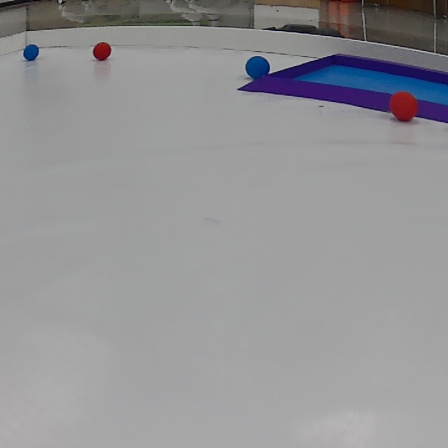blue: (244, 53, 271, 80), (22, 42, 42, 62)
blue_aim: (234, 51, 448, 141)
red: (384, 86, 421, 126), (90, 41, 111, 63)
